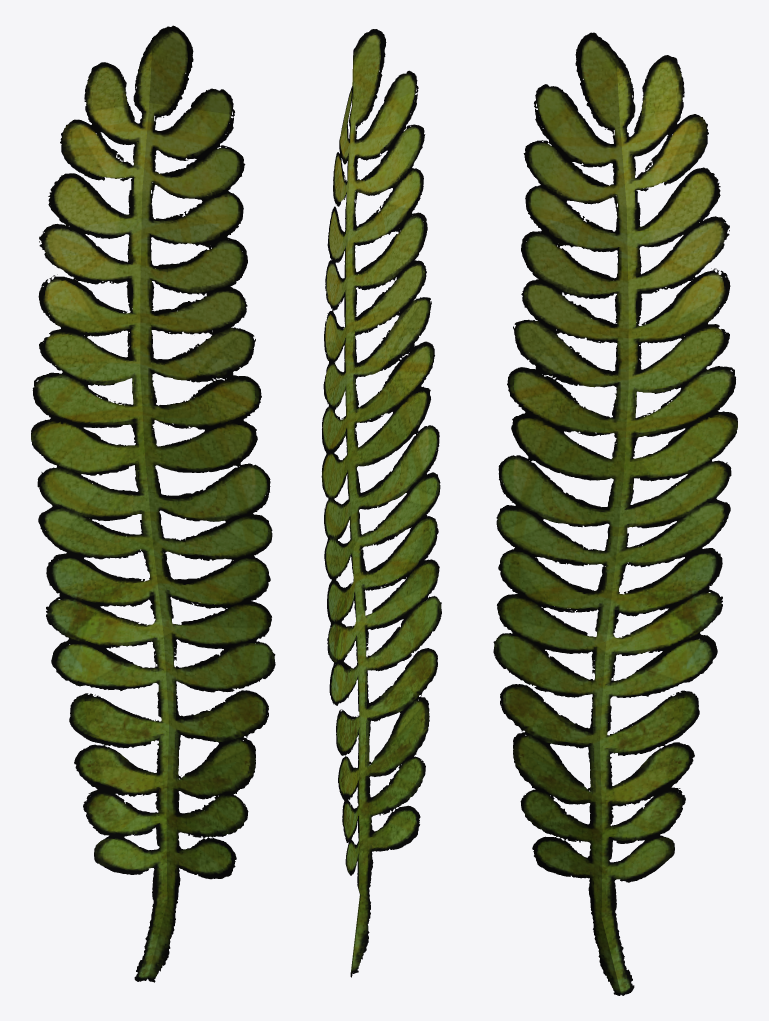
File: grass_2A_mesh.fbx
3 renders of one model, left to right at view 1: azimuth 90°, elevation 25°; view 2: azimuth 150°, elevation 25°; view 3: azimuth 270°, elevation 25°, orthographic. The views are drawn at different scales.
Visible parts, largest first — view 1: grass_2A; view 2: grass_2A; view 3: grass_2A.
Boxes of the visible parts, x1=… form: grass_2A: x1=31, y1=25, x2=275, y2=982; grass_2A: x1=321, y1=29, x2=441, y2=977; grass_2A: x1=493, y1=32, x2=737, y2=995.
Size of the model in its own units: 4.98 by 143 by 36.44.
